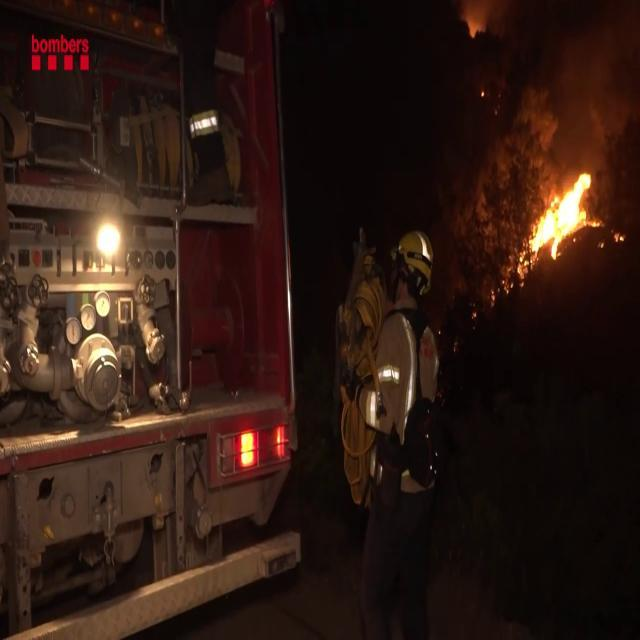Fire: (522, 165, 600, 261)
